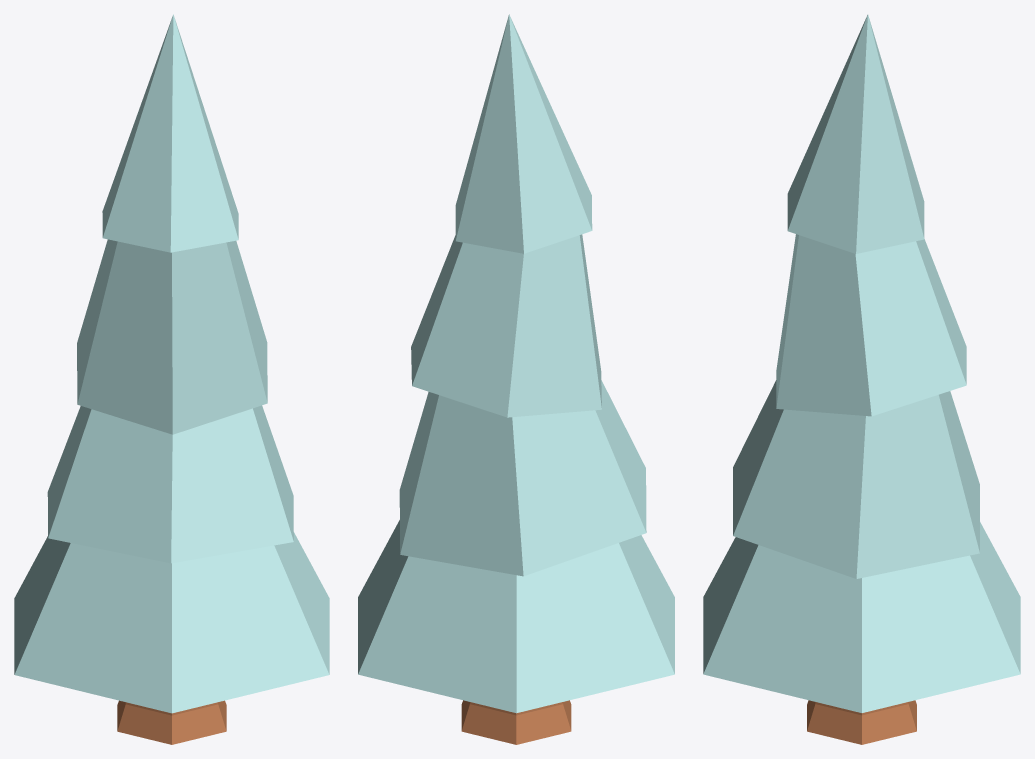
Rendered from treePineSnowed.fbx.
3 views of the same model, side by side, from view 1: azimuth 30°, elevation 25°; view 2: azimuth 150°, elevation 25°; view 3: azimuth 270°, elevation 25° (orthographic).
Parts seen in each view (by area): view 1: treePineSnowed; view 2: treePineSnowed; view 3: treePineSnowed.
Boxes of the visible parts, x1,y1,x2,y2 form: treePineSnowed: [14, 14, 329, 744]; treePineSnowed: [358, 14, 674, 744]; treePineSnowed: [703, 14, 1020, 744].
Size of the model in its own units: 7.52 by 15.98 by 6.51.
